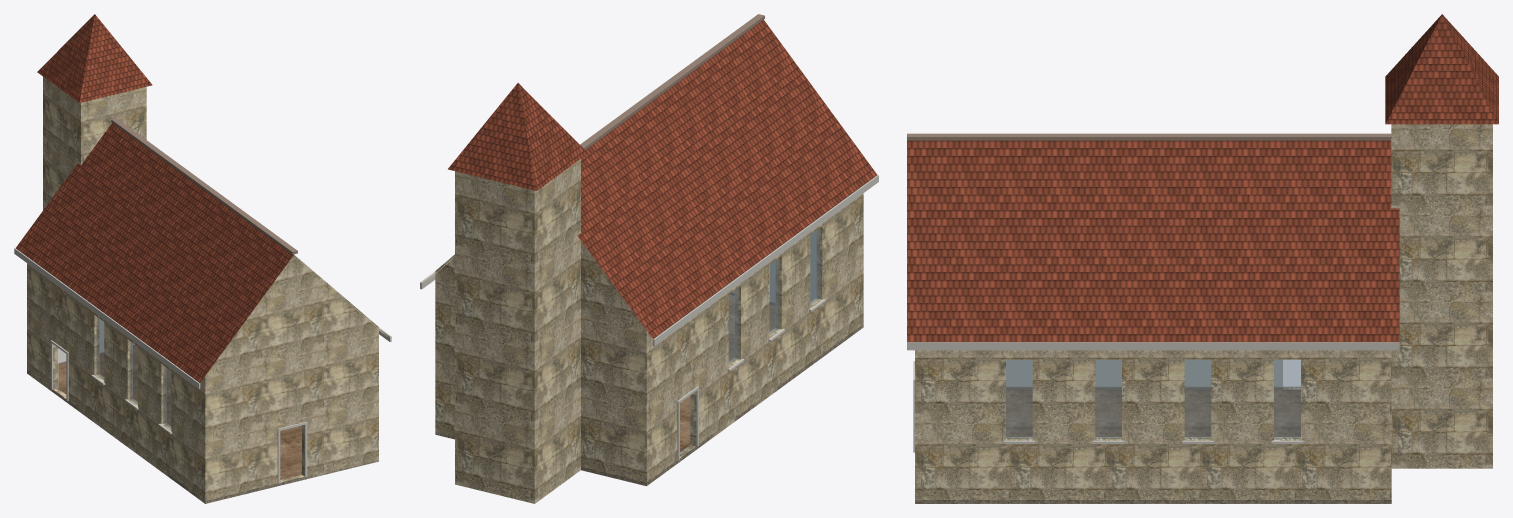
File: village-chapel.loc-v1.lod0.glb
3 views of the same model, side by side, from view 1: azimuth 30°, elevation 25°; view 2: azimuth 150°, elevation 25°; view 3: azimuth 270°, elevation 25° (orthographic). The views are drawn at different scales.
Parts seen in each view (by area): view 1: village-chapel; view 2: village-chapel; view 3: village-chapel.
Part boxes in pixels (<box>): village-chapel: <box>14,14,391,503</box>; village-chapel: <box>420,14,878,503</box>; village-chapel: <box>907,14,1498,503</box>.
Size of the model in its own units: 9.98 by 16.05 by 19.87.
Materials: 7 (5 with a texture image).
